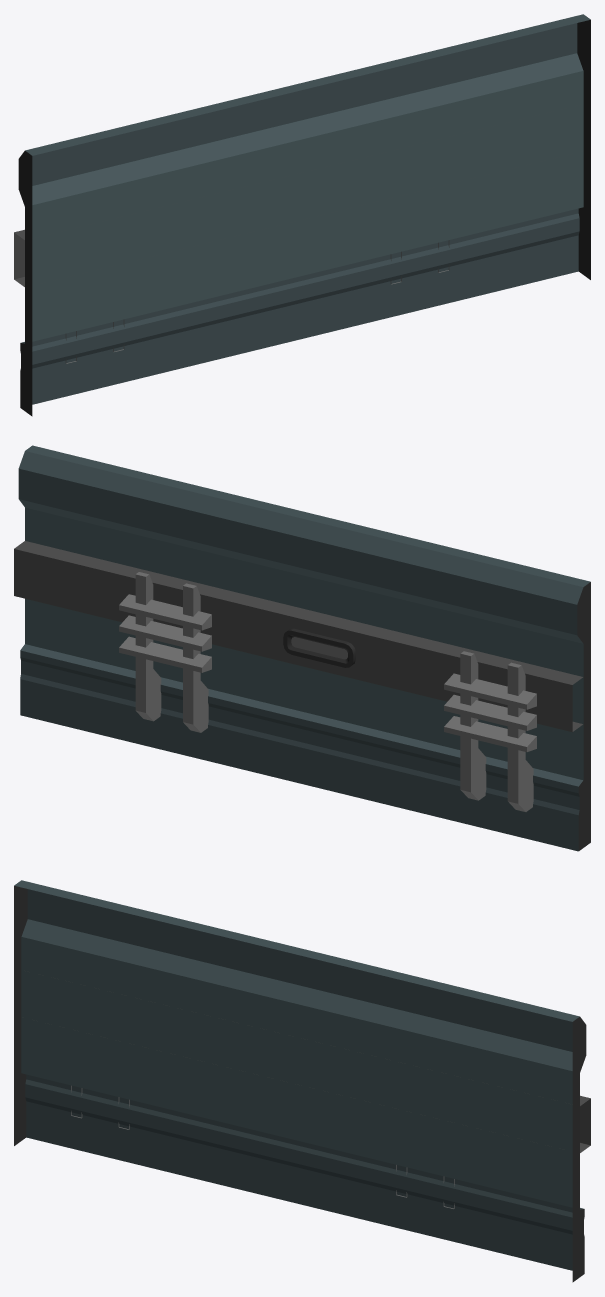
File: SM_wall_front_03.fbx
3 renders of one model, top to bottom at view 1: azimuth 30°, elevation 25°; view 2: azimuth 150°, elevation 25°; view 3: azimuth 330°, elevation 25°, orthographic.
Visible parts, largest first — view 1: SM_wall_front_03; view 2: SM_wall_front_03; view 3: SM_wall_front_03.
Boxes of the visible parts, box(x1,y1,x2,y2) form: SM_wall_front_03: box(14, 14, 590, 416); SM_wall_front_03: box(14, 445, 590, 851); SM_wall_front_03: box(14, 880, 590, 1282).
Bounding box in the file's own units: 300 × 134 × 29.58.
Materials: 2 (2 with a texture image).
